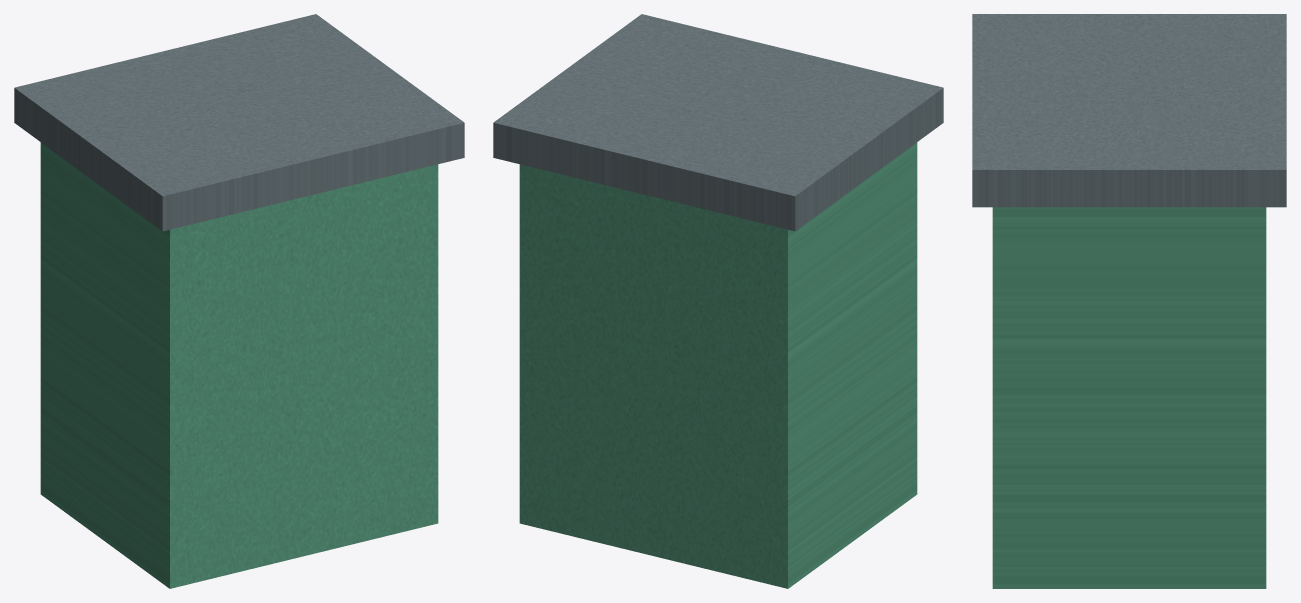
Rendered from recycling_bin_lod2.glb.
The picture shows the model from 3 angles, left to right: view 1: azimuth 30°, elevation 25°; view 2: azimuth 150°, elevation 25°; view 3: azimuth 270°, elevation 25°; orthographic projection. The views are drawn at different scales.
Visible parts, largest first — view 1: world; view 2: world; view 3: world.
Part boxes in pixels (x1=…): world: x1=14, y1=14, x2=464, y2=588; world: x1=493, y1=14, x2=943, y2=588; world: x1=972, y1=14, x2=1286, y2=588.
Bounding box in the file's own units: 1.35 × 1.72 × 1.15.
Materials: 2 (2 with a texture image).
